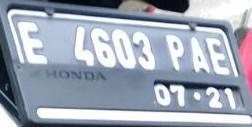0: (108, 25, 139, 69)
3: (129, 28, 159, 70)
4: (66, 23, 97, 68)
6: (89, 25, 120, 70)
A: (203, 36, 235, 76), (186, 35, 213, 74)
E: (16, 19, 50, 64)
P: (161, 32, 188, 73)
